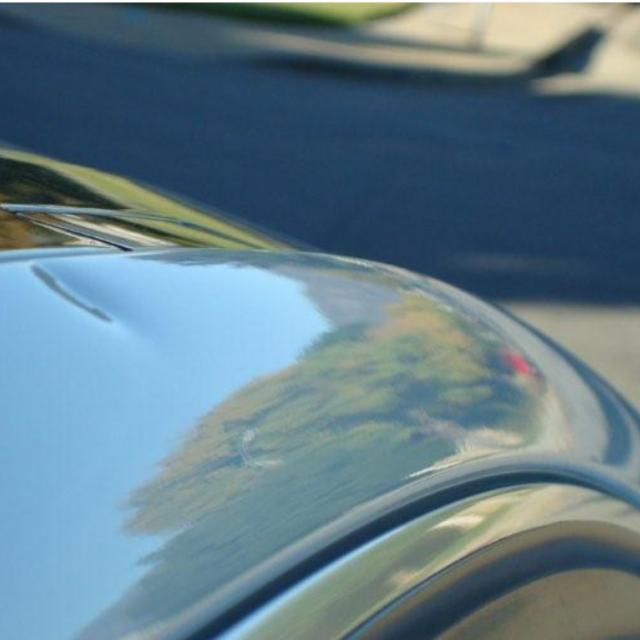dents: (17, 256, 157, 351)
